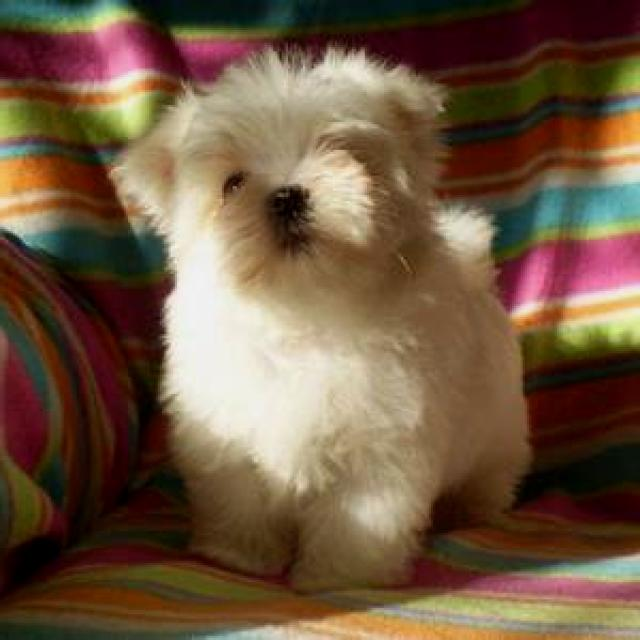KOPEK: (155, 45, 536, 575)
